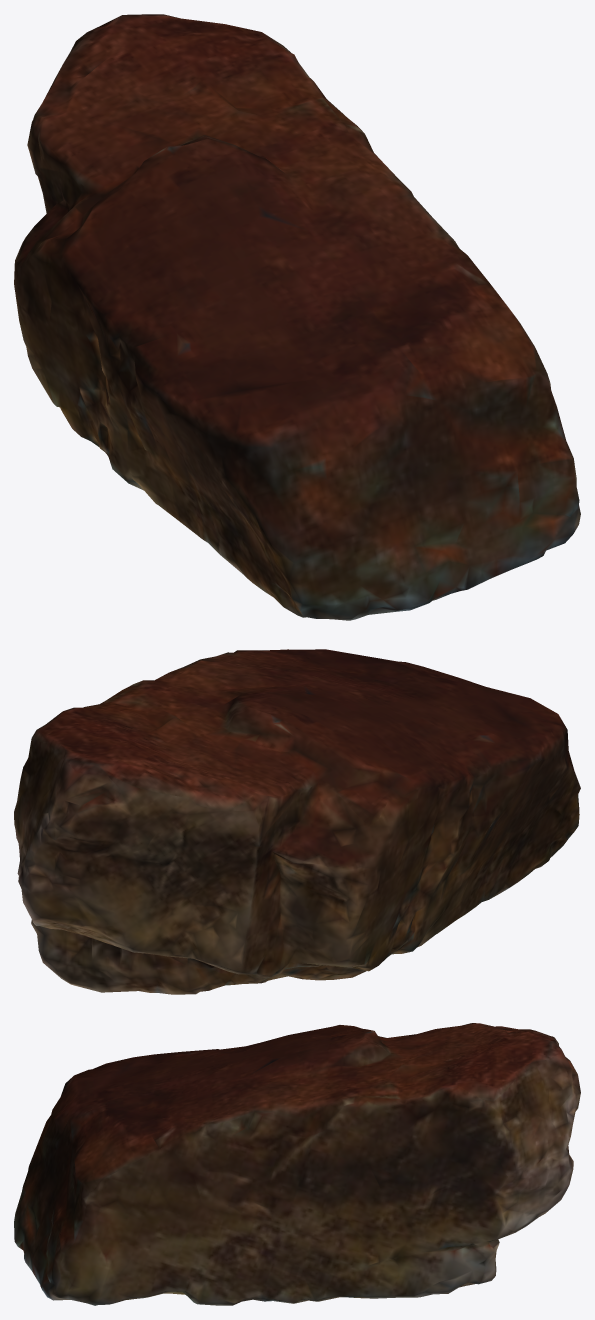
File: rock_07.slim.glb
The picture shows the model from 3 angles, top to bottom: view 1: azimuth 30°, elevation 25°; view 2: azimuth 150°, elevation 25°; view 3: azimuth 270°, elevation 25°; orthographic projection. The views are drawn at different scales.
Bounding box in the file's own units: 0.1684 × 0.1437 × 0.3202.
Materials: 1 (1 with a texture image).
